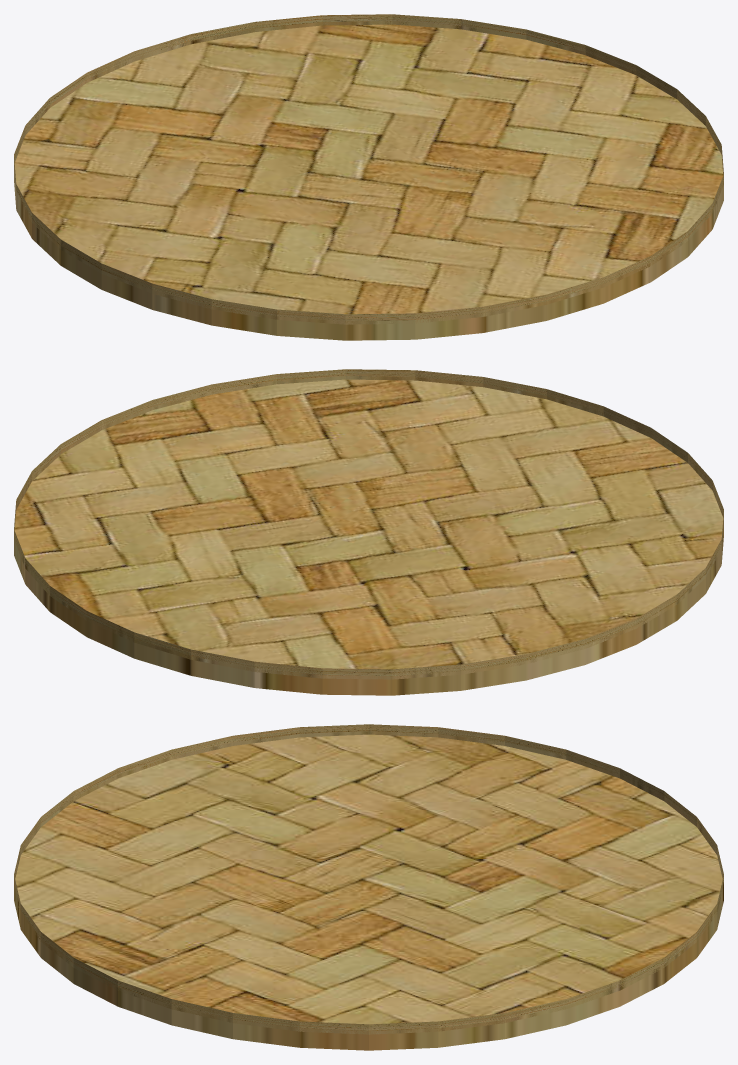
Rendered from Nyiru.fbx.
3 renders of one model, top to bottom at view 1: azimuth 30°, elevation 25°; view 2: azimuth 150°, elevation 25°; view 3: azimuth 270°, elevation 25°, orthographic.
Visible parts, largest first — view 1: Cylinder; view 2: Cylinder; view 3: Cylinder.
Boxes of the visible parts, x1,y1,x2,y2 form: Cylinder: (14, 14, 723, 340); Cylinder: (14, 369, 723, 695); Cylinder: (14, 724, 723, 1050).
Bounding box in the file's own units: 277 × 11.36 × 277.
